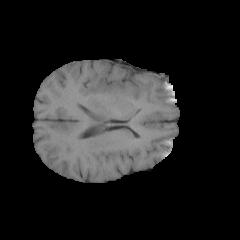glioma: (84, 72, 139, 103)
